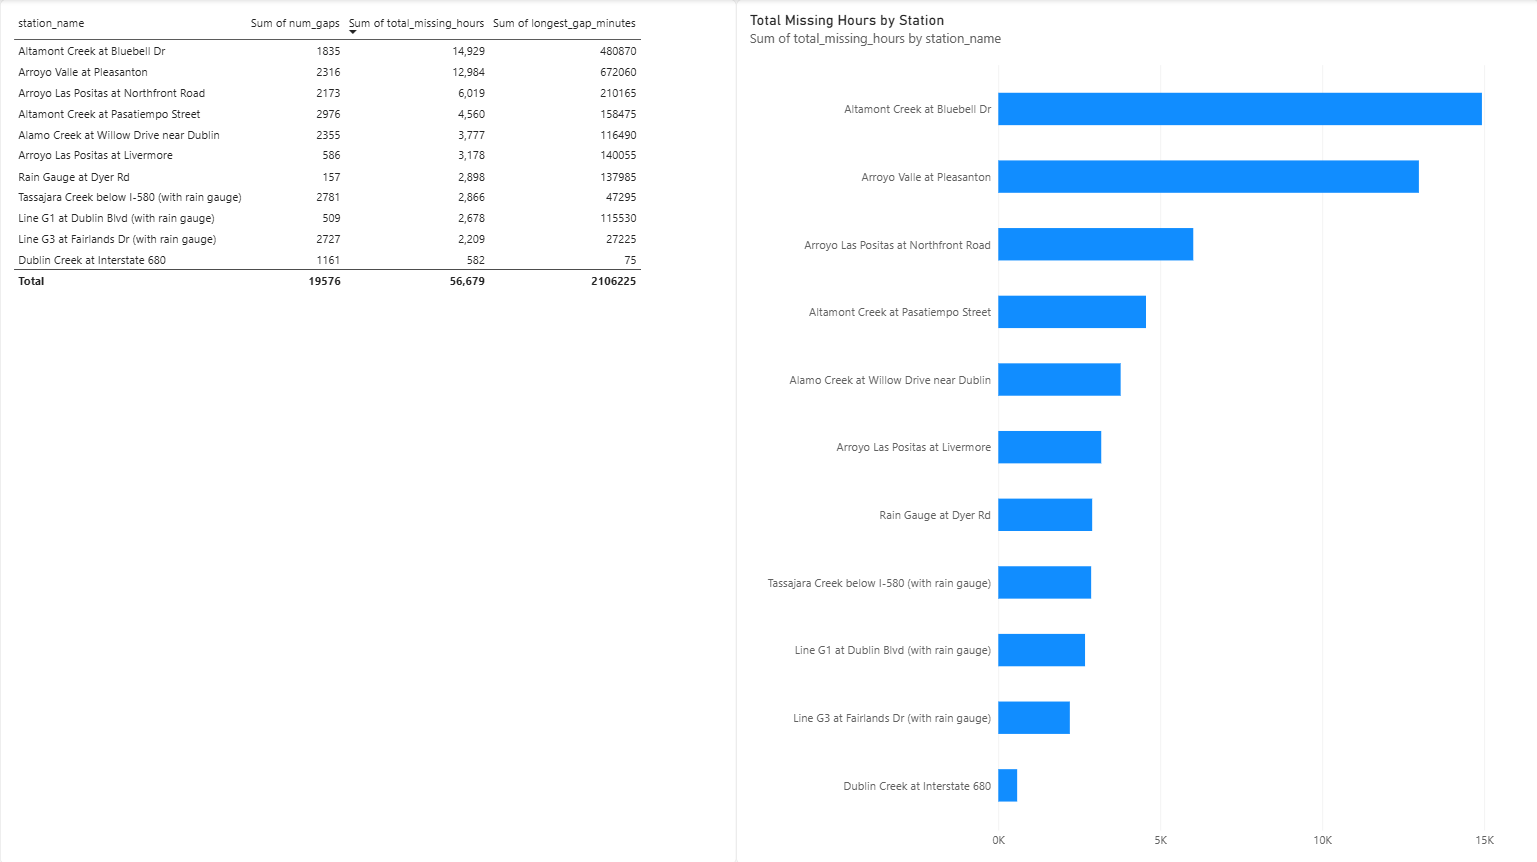

This screenshot's page, from the dashboard's own definition file:
{"tool":"powerbi","page":{"name":"Detail","canvas":[1920,1080],"ordinal":1},"visuals":[{"type":"tableEx","fields":{"Values":["GapSummary.station_name","Sum(GapSummary.num_gaps)","Sum(GapSummary.total_missing_hours)","Sum(GapSummary.longest_gap_minutes)"]},"box":[0,0,918,1080.6],"z":0},{"type":"clusteredBarChart","title":"Total Missing Hours by Station","fields":{"Category":["GapSummary.station_name"],"Y":["Sum(GapSummary.total_missing_hours)"]},"box":[918,0,1002.4,1080.6],"z":1}]}

Visuals, with their boxes in screenshot pixels (x1, y1, x2, y2), scaled from the page's 1920x1080 canvas onto the 1537x862 screenshot:
tableEx - GapSummary.station_name x Sum(GapSummary.num_gaps): locate(0, 0, 735, 861)
"Total Missing Hours by Station" clusteredBarChart: locate(735, 0, 1536, 861)
